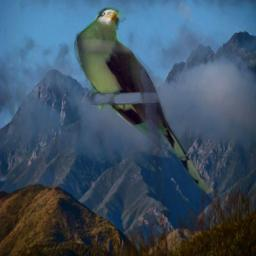Cuckoo: (74, 7, 220, 195)
